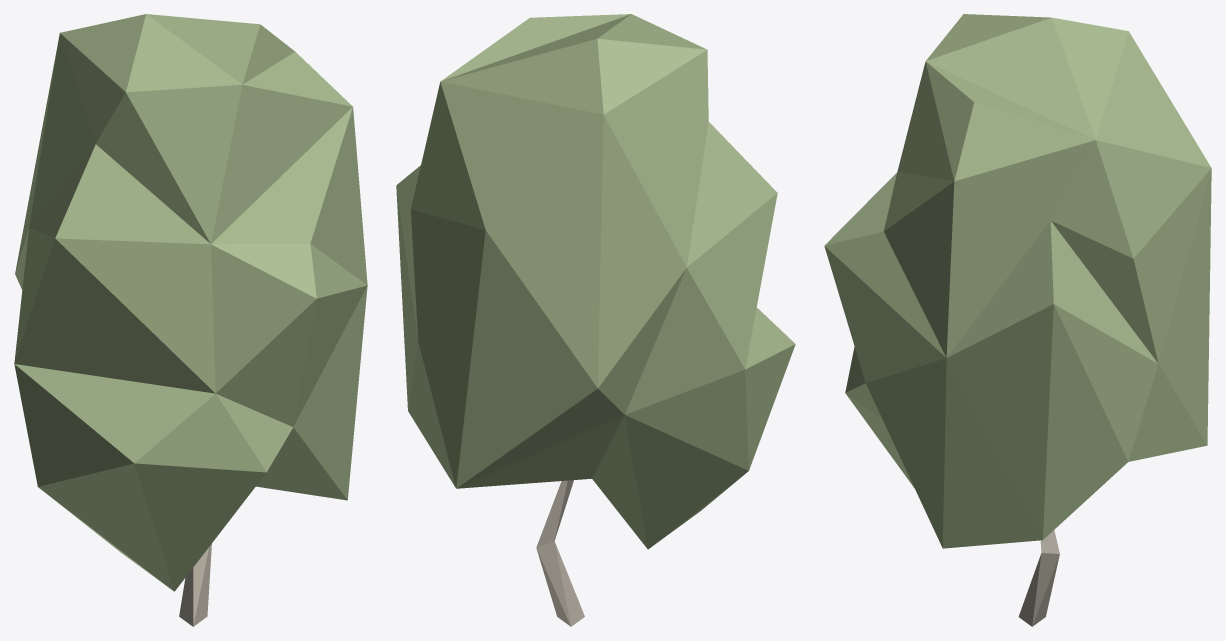
Rendered from CaryaOvalis.glb.
3 views of the same model, side by side, from view 1: azimuth 30°, elevation 25°; view 2: azimuth 150°, elevation 25°; view 3: azimuth 270°, elevation 25° (orthographic). The views are drawn at different scales.
Parts seen in each view (by area): view 1: Crown, Trunk; view 2: Crown, Trunk; view 3: Crown, Trunk.
Part boxes in pixels (<box>): Crown: <box>14,14,367,591</box>; Trunk: <box>179,544,211,626</box>; Crown: <box>396,14,795,549</box>; Trunk: <box>536,480,584,626</box>; Crown: <box>824,14,1211,548</box>; Trunk: <box>1018,530,1059,626</box>.
Bounding box in the file's own units: 9.72 × 16.38 × 9.82.
